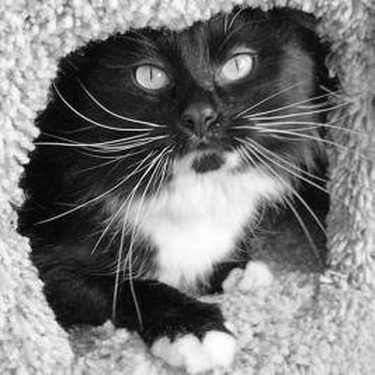cat: (29, 14, 363, 364)
